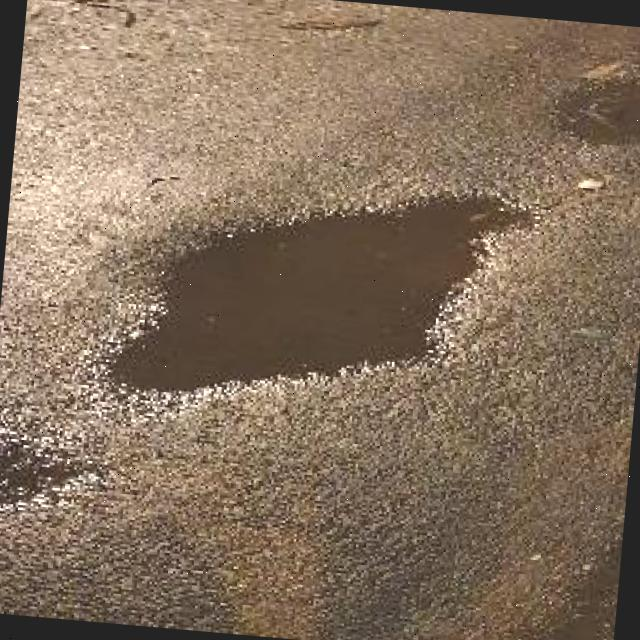stagnation: (80, 147, 514, 430)
